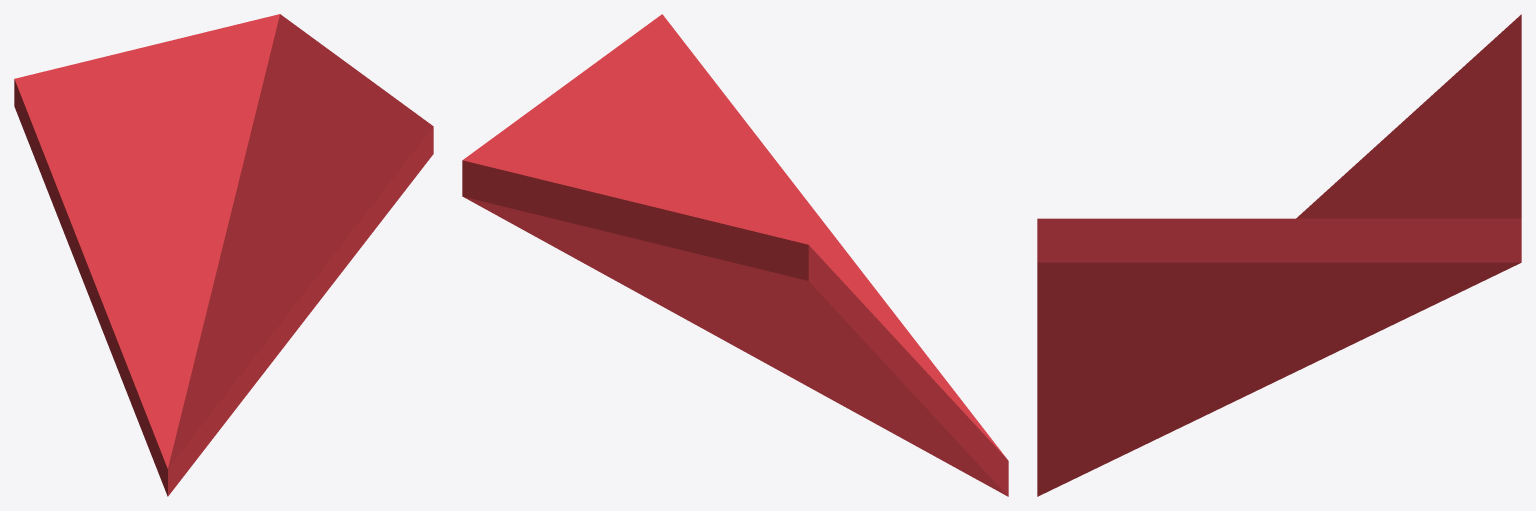
The model's file is roof_corner_inner.glb.
3 renders of one model, left to right at view 1: azimuth 30°, elevation 25°; view 2: azimuth 150°, elevation 25°; view 3: azimuth 270°, elevation 25°, orthographic. The views are drawn at different scales.
Parts seen in each view (by area): view 1: roof_corner_inner; view 2: roof_corner_inner; view 3: roof_corner_inner.
Part boxes in pixels (x1,y1,x2,y2): roof_corner_inner: (14,14,433,496); roof_corner_inner: (462,14,1008,496); roof_corner_inner: (1037,14,1521,496).
Bounding box in the file's own units: 1 × 1.1 × 1.
